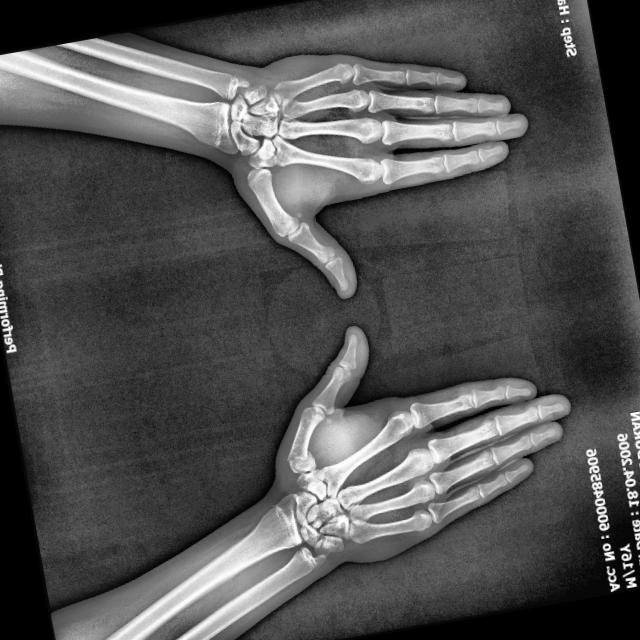Fracture: (280, 445, 316, 469)
